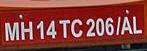character: (3, 21, 19, 41), (20, 21, 33, 40), (45, 19, 57, 39), (58, 18, 70, 38), (70, 18, 82, 38), (120, 15, 132, 35), (85, 17, 95, 37), (132, 16, 143, 34), (104, 17, 114, 36), (36, 20, 45, 40), (95, 17, 104, 36)
